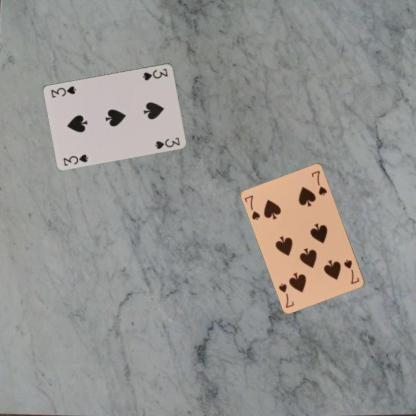3s: (60, 151, 90, 167), (140, 66, 169, 81)
7s: (242, 193, 262, 222), (342, 257, 360, 286)
